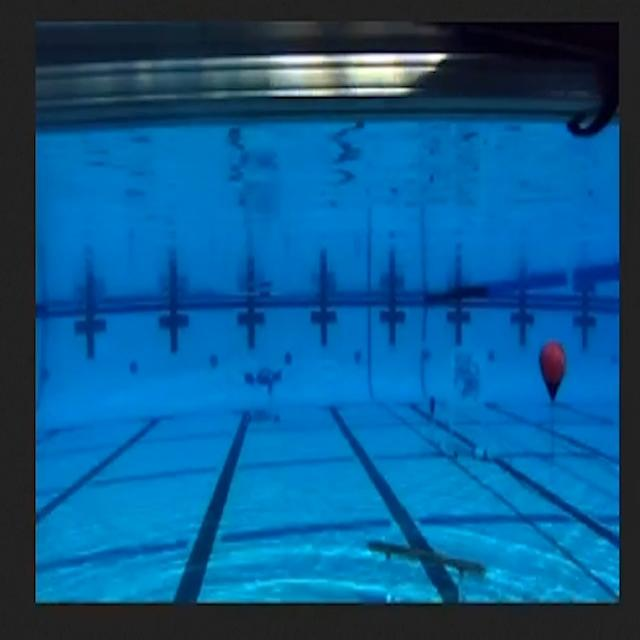Buoy: (535, 343, 574, 414)
